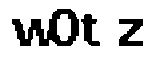0: (50, 6, 80, 50)
t: (81, 11, 103, 50)
w: (9, 14, 52, 51)
z: (115, 17, 146, 49)
